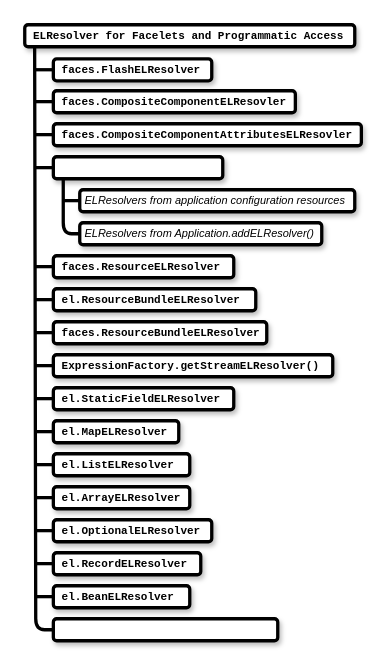
This 388x669 diagram has some shape labels left out. The shapes that lost their labels are listed below. From the top down, each one's centre as x and y in pixels, then its label:
At point 138,169: "el.CompositeELResolver".
At point 166,631: "faces.ScopedAttributeELResolver".
